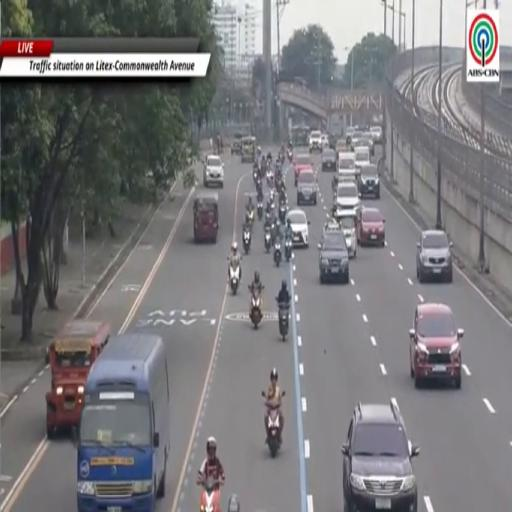bus: (74, 333, 170, 511)
car: (342, 399, 419, 511), (409, 303, 464, 389), (318, 223, 349, 283), (417, 230, 452, 282), (357, 207, 385, 247), (336, 211, 356, 259), (287, 208, 309, 247), (296, 169, 318, 206), (336, 181, 360, 212), (359, 165, 380, 199), (204, 155, 224, 187), (293, 154, 312, 185), (337, 152, 356, 180), (355, 146, 371, 173), (322, 149, 336, 171), (309, 131, 321, 153), (363, 132, 374, 156), (231, 134, 244, 154), (370, 125, 382, 145), (351, 130, 363, 146), (321, 134, 329, 150), (346, 126, 356, 136)
jeepney: (46, 320, 110, 439), (194, 191, 218, 243), (334, 208, 356, 259), (240, 137, 256, 163)
motorcycle: (265, 400, 281, 457), (198, 477, 222, 511), (250, 293, 262, 328), (279, 303, 289, 341), (230, 263, 241, 295), (264, 226, 272, 254), (243, 228, 251, 254), (274, 240, 281, 266), (285, 237, 292, 262), (279, 203, 287, 223), (246, 210, 254, 228), (266, 169, 273, 187), (257, 202, 263, 220), (287, 148, 293, 163), (253, 166, 258, 183)
